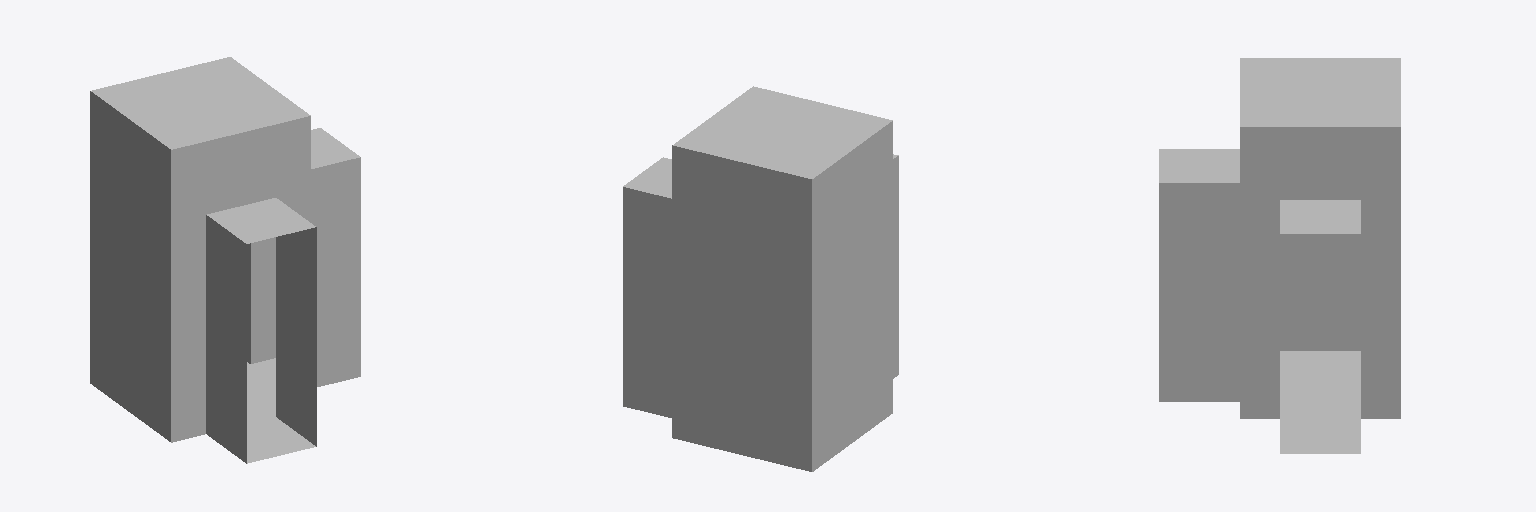
The model's file is FenceConnectedD.obj.
The picture shows the model from 3 angles: view 1: azimuth 30°, elevation 25°; view 2: azimuth 150°, elevation 25°; view 3: azimuth 270°, elevation 25°; orthographic projection.
Visible parts, largest first — view 1: cuboid; view 2: cuboid; view 3: cuboid.
Part boxes in pixels (bbox=[...]): cuboid: bbox=[90, 57, 360, 463]; cuboid: bbox=[623, 86, 898, 471]; cuboid: bbox=[1159, 58, 1400, 453].
Bounding box in the file's own units: 1.5 × 2 × 1.5.